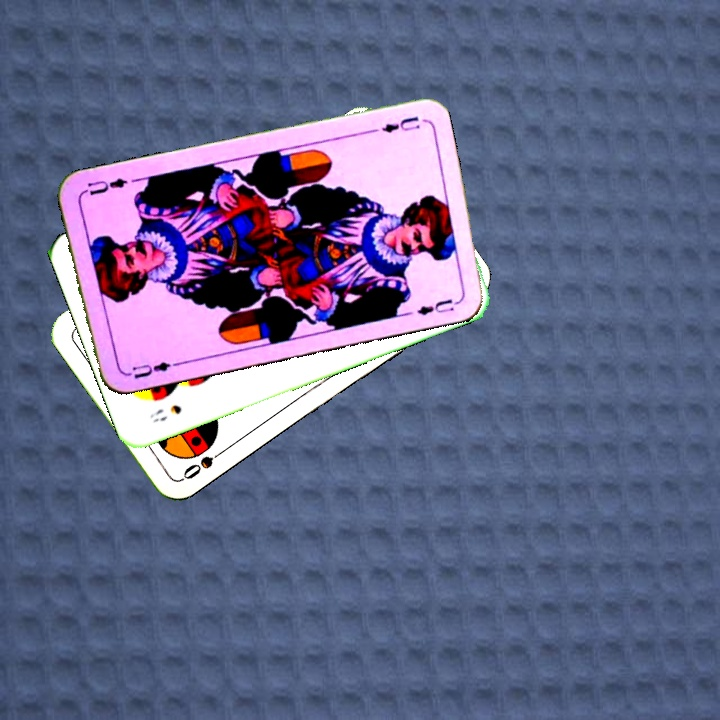EU: (120, 357, 179, 382), (377, 112, 423, 136)
S8: (145, 400, 184, 424)
SO: (178, 443, 230, 482)
